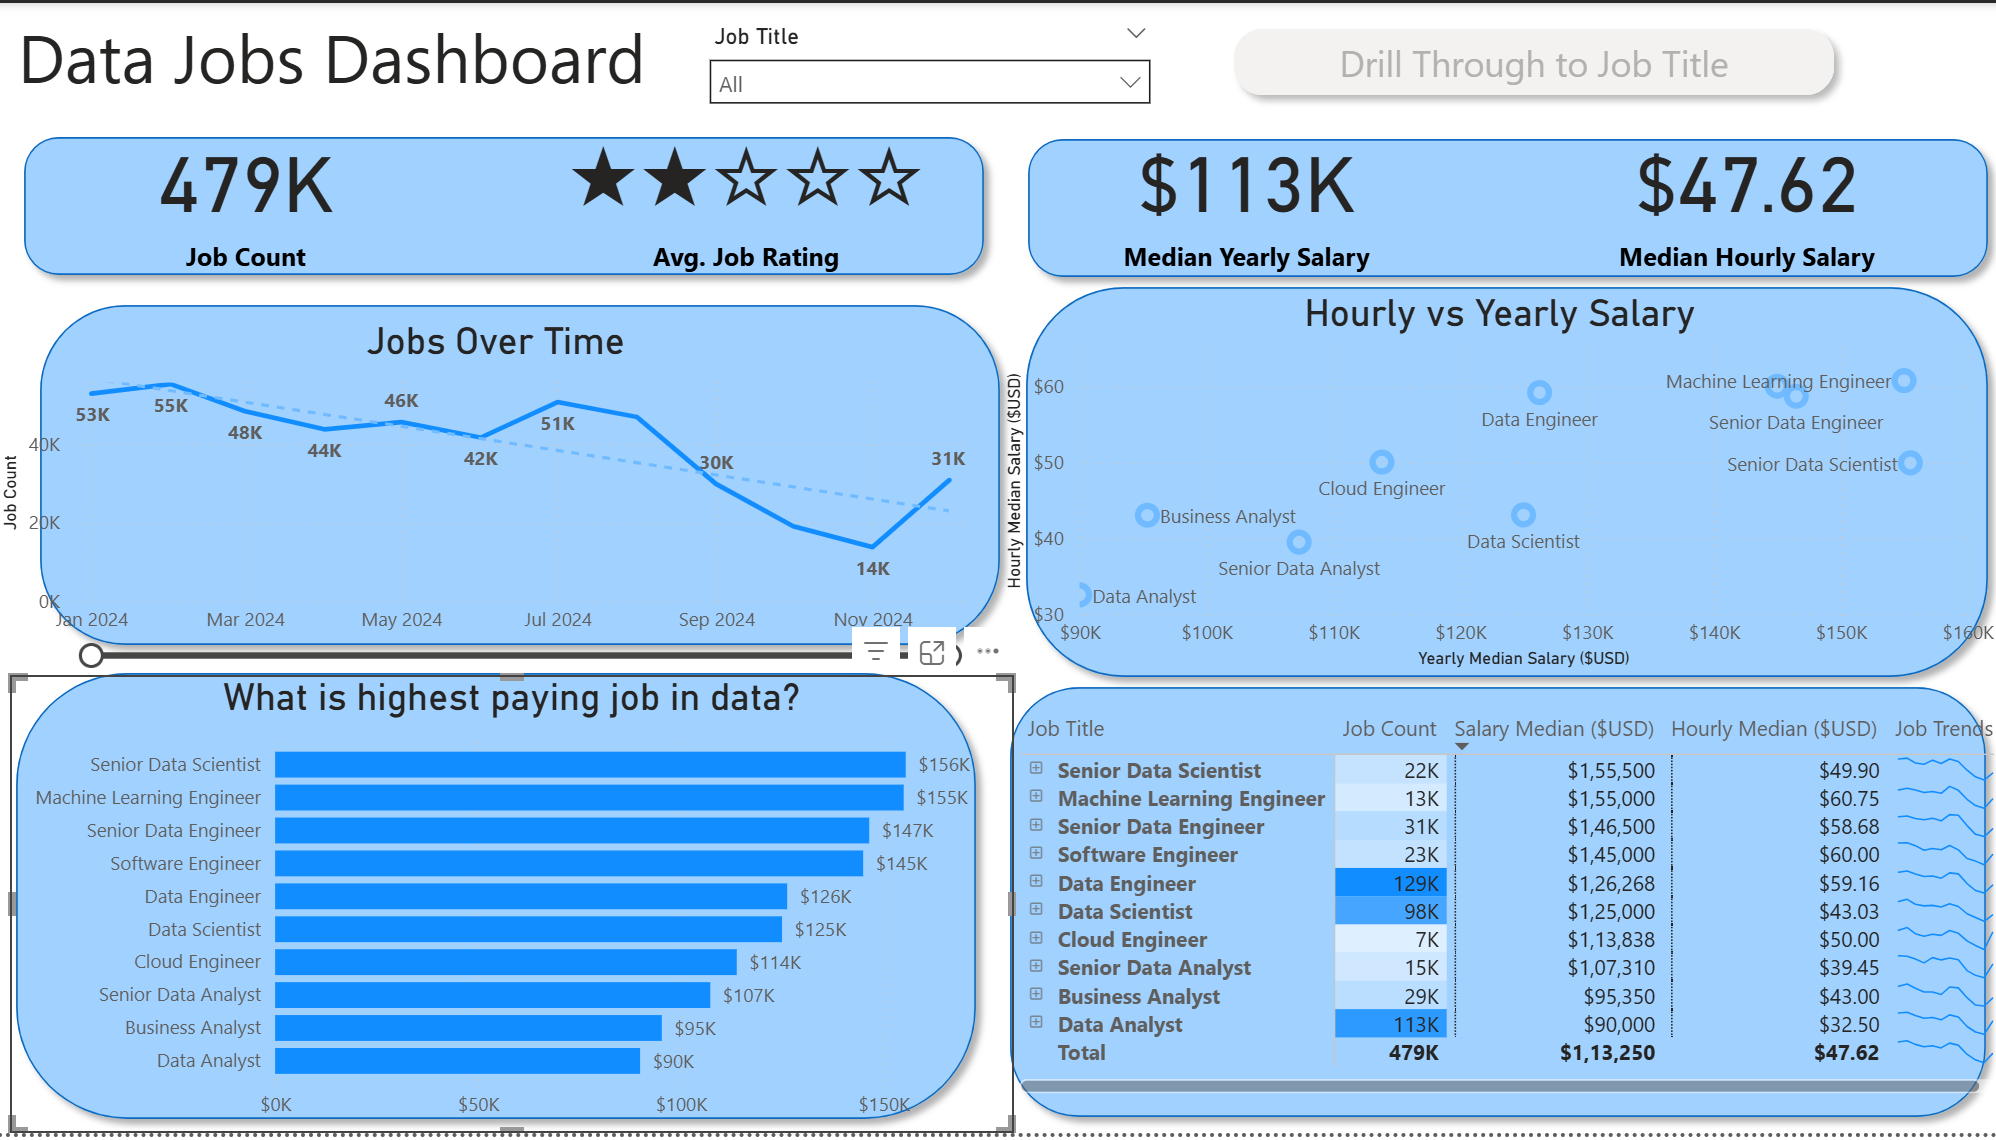

The page's visual inventory and layout, read from the dashboard file:
{"tool":"powerbi","page":{"name":"Data Jobs Dashboard","canvas":[1280,720],"ordinal":0},"visuals":[{"type":"group","id":"g1","title":"Background","box":[5.1,76.5,1274.9,643.8],"z":0},{"type":"shape","box":[10.2,76.5,629.8,105.8],"z":0,"group":"g1"},{"type":"textbox","box":[10.2,0,436,76.5],"z":1000},{"type":"shape","box":[650.2,77.8,629.8,105.8],"z":1000,"group":"g1"},{"type":"slicer","fields":{"Values":["job_postings_flat.job_title_short"]},"box":[446.2,7.6,300.9,68.8],"z":2000},{"type":"shape","box":[20.4,183.6,629.8,234.6],"z":2000,"group":"g1"},{"type":"cardVisual","fields":{"Data":["CountNonNull(job_postings_flat.job_title_short)","job_postings_flat.Job Rating","Median(job_postings_flat.salary_year_avg)","Median(job_postings_flat.salary_hour_avg)"]},"box":[0,76.5,1280,105.8],"z":3000},{"type":"shape","box":[650.2,172.1,629.8,255],"z":3000,"group":"g1"},{"type":"lineChart","title":"What is trend of jobs in 2024?","fields":{"Category":["job_postings_flat.job_posted_date.Variation.Date Hierarchy.Year","job_postings_flat.job_posted_date.Variation.Date Hierarchy.Quarter","job_postings_flat.job_posted_date.Variation.Date Hierarchy.Month","job_postings_flat.job_posted_date.Variation.Date Hierarchy.Day"],"Y":["CountNonNull(job_postings_flat.job_title_short)"]},"box":[0,201.4,640,225.7],"z":4000},{"type":"shape","box":[5.1,418.2,629.8,302.2],"z":4000,"group":"g1"},{"type":"shape","box":[639.5,417.9,639.2,301.7],"z":5000,"group":"g1"},{"type":"barChart","title":"What is highest paying job in data?","fields":{"Category":["job_postings_flat.job_title_short"],"Y":["CountNonNull(job_postings_flat.job_title_short)"]},"box":[1.3,427.1,638.7,294.5],"z":5000},{"type":"scatterChart","title":"Hourly vs Yearly Salary of Data Jobs","fields":{"Y":["Median(job_postings_flat.salary_hour_avg)"],"X":["Median(job_postings_flat.salary_year_avg)"],"Series":["job_postings_flat.job_title_short"]},"box":[640,182.3,640,244.8],"z":6000},{"type":"pivotTable","fields":{"Rows":["job_postings_flat.job_title_short","job_postings_flat.job_posted_date.Variation.Date Hierarchy.Quarter"],"Values":["CountNonNull(job_postings_flat.job_title_short)","Median(job_postings_flat.salary_year_avg)","Median(job_postings_flat.salary_hour_avg)","SparklineData(CountNonNull(job_postings_flat.job_title_short)_[job_postings_flat.job_posted_date.Variation.Date Hierarch"]},"box":[648.6,427.7,631.4,292.4],"z":7000},{"type":"actionButton","title":"Drill through to Job Title","box":[781.5,7.6,400.3,59.9],"z":8000}]}

Visuals, with their boxes in screenshot pixels (x1, y1, x2, y2), scaled from the page's 1280x720 canvas onto the 1996x1140 screenshot:
"Background" group: l=8, t=121, r=1995, b=1139
shape: l=16, t=121, r=998, b=289
textbox: l=16, t=0, r=696, b=121
shape: l=1014, t=123, r=1995, b=291
slicer - job_postings_flat.job_title_short: l=696, t=12, r=1165, b=121
shape: l=32, t=291, r=1014, b=662
cardVisual - CountNonNull(job_postings_flat.job_title_short) x job_postings_flat.Job Rating: l=0, t=121, r=1995, b=289
shape: l=1014, t=272, r=1995, b=676
"What is trend of jobs in 2024?" lineChart: l=0, t=319, r=998, b=676
shape: l=8, t=662, r=990, b=1139
shape: l=997, t=662, r=1994, b=1139
"What is highest paying job in data?" barChart: l=2, t=676, r=998, b=1139
"Hourly vs Yearly Salary of Data Jobs" scatterChart: l=998, t=289, r=1995, b=676
pivotTable - job_postings_flat.job_title_short x job_postings_flat.job_posted_date.Variation.Date Hierarchy.Quarter: l=1011, t=677, r=1995, b=1139
"Drill through to Job Title" actionButton: l=1219, t=12, r=1843, b=107
